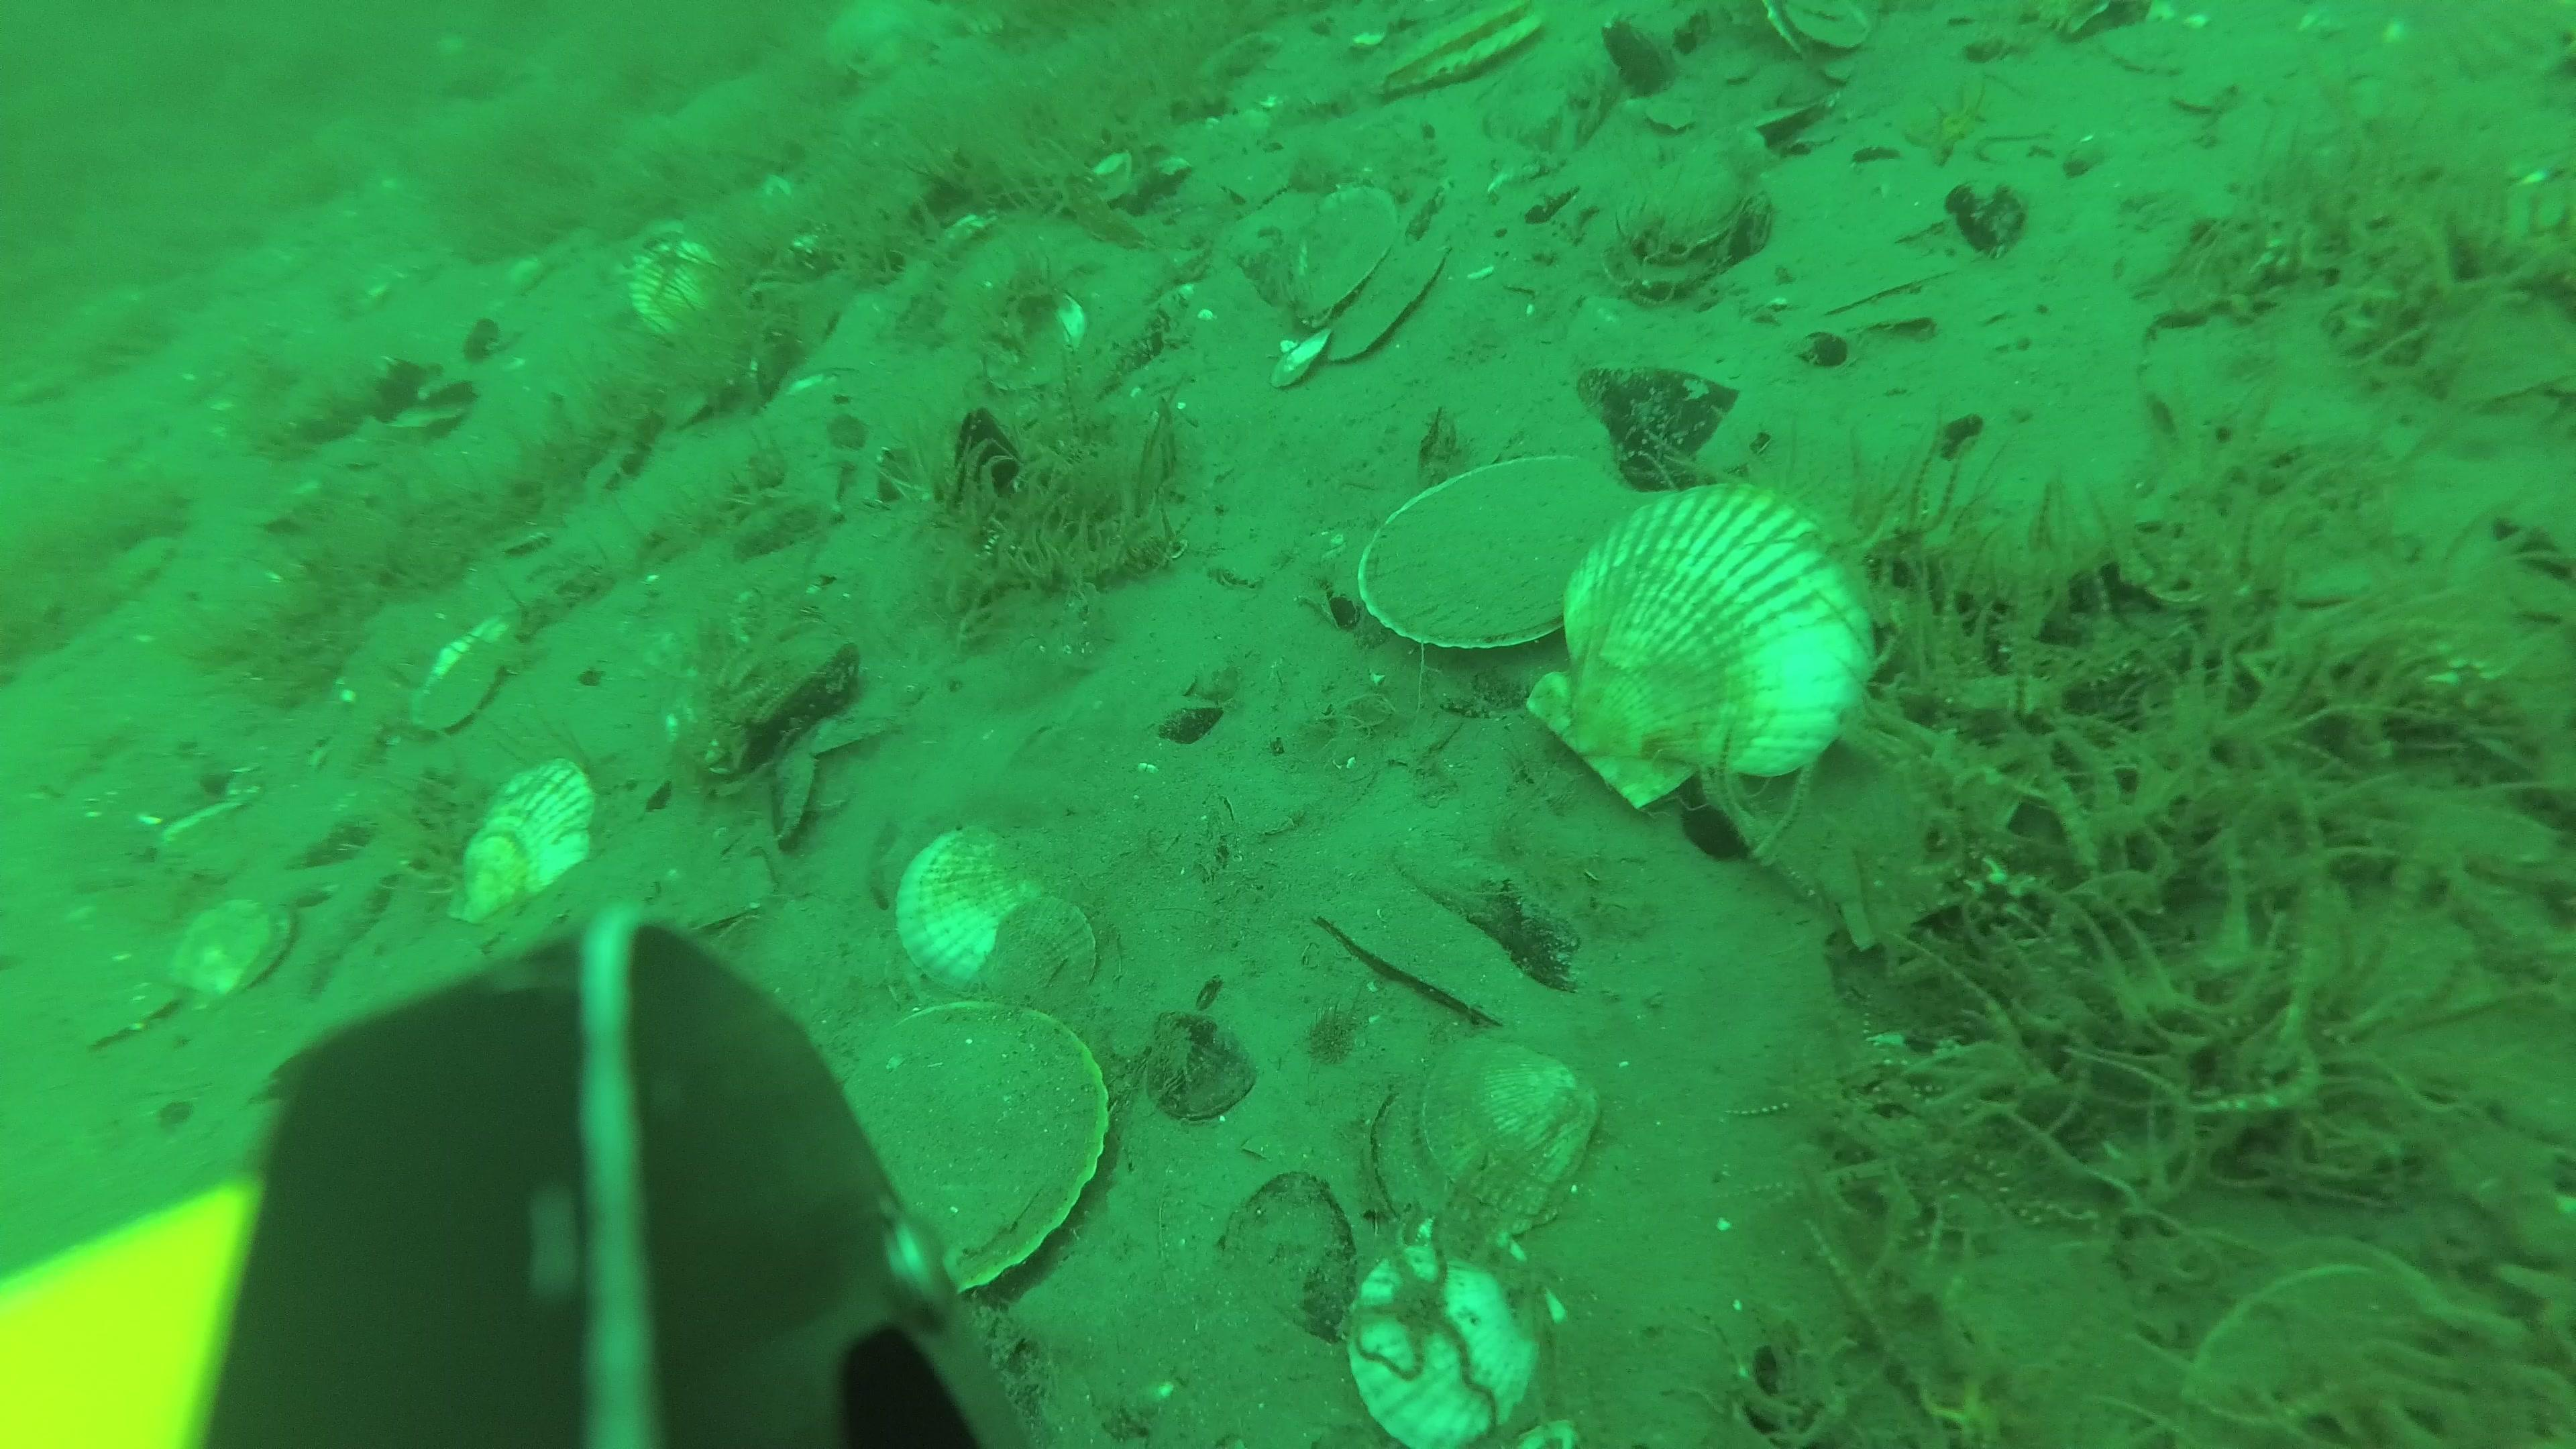scallop: (1522, 485, 1865, 810), (830, 1000, 1102, 1295), (1357, 458, 1640, 651), (1355, 1235, 1573, 1449), (1431, 1031, 1599, 1224), (902, 828, 1083, 994), (449, 759, 593, 922), (1371, 0, 1548, 99), (1322, 234, 1438, 368), (1279, 189, 1382, 326), (177, 888, 290, 1003), (421, 621, 527, 738), (982, 906, 1104, 1000), (623, 241, 717, 340)
starfish: (833, 0, 950, 74)
